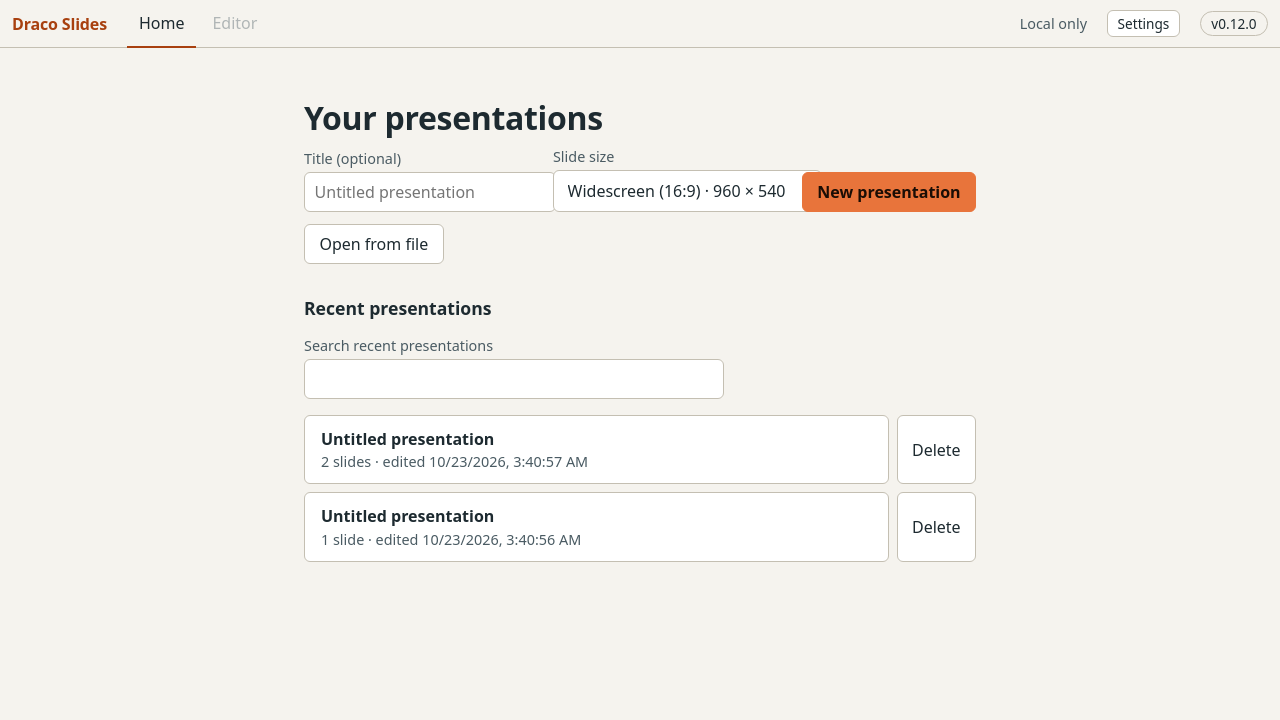
Scenario: editing text in place › clicking empty canvas finishes editing and keeps the typed text, even without an input event
Click the button "New presentation": coordinates (889, 192) [802,172,976,212]
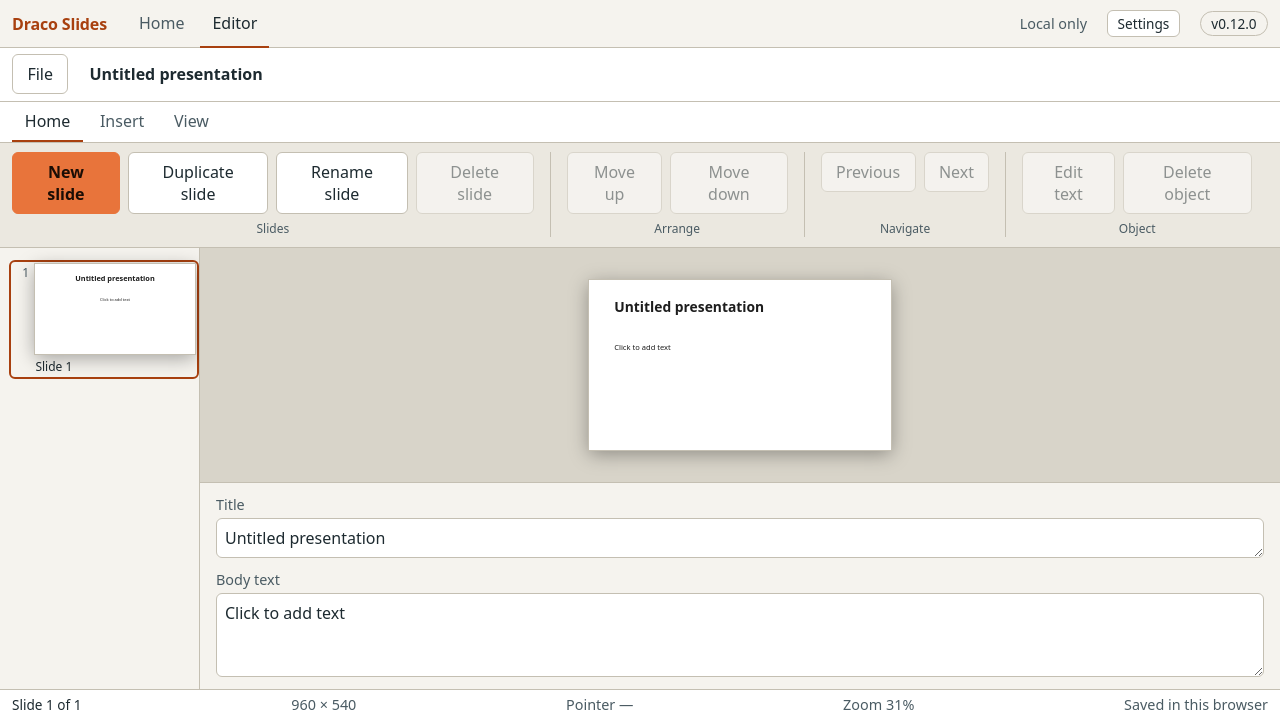
Click the tab "Insert": coordinates (122, 122) [87,102,157,142]
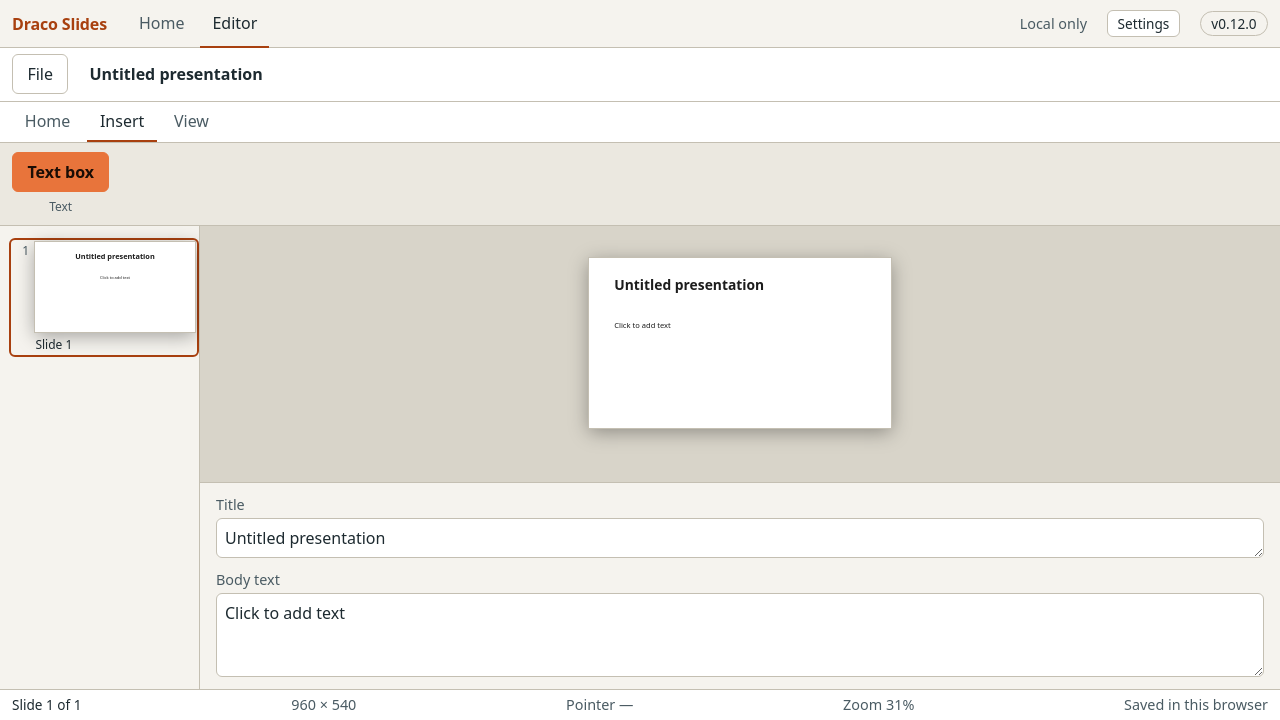
Click the button "Text box": coordinates (61, 172) [12,152,109,192]
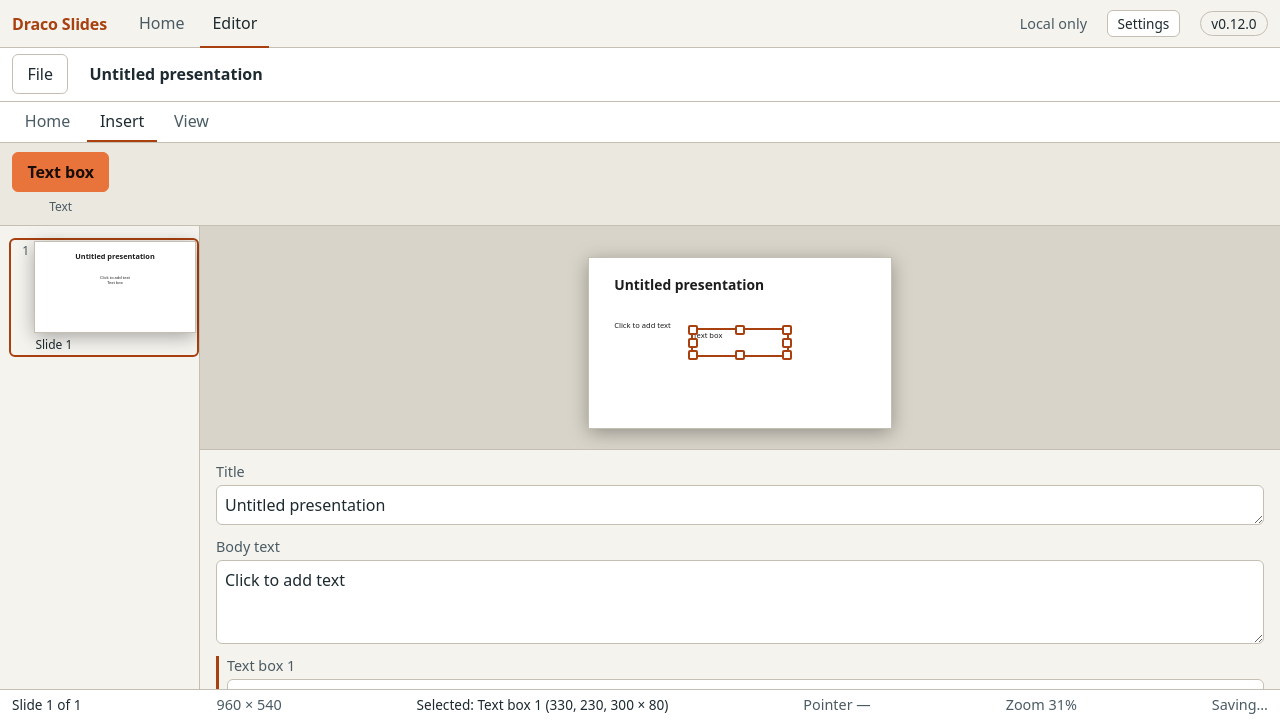
Double-click the button named "Text box 1": coordinates (740, 343) [693,330,787,355]
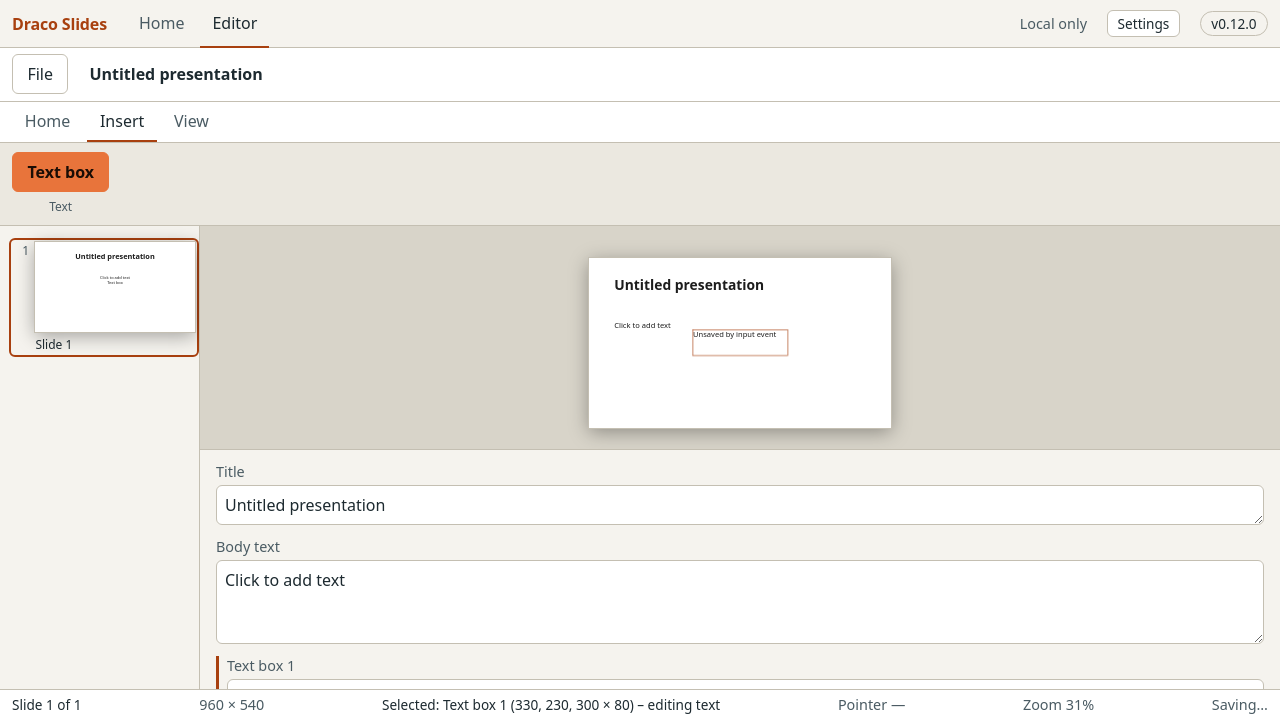
Press the mouse on the element named "Slide canvas": coordinates (740, 337) [200,226,1279,449]
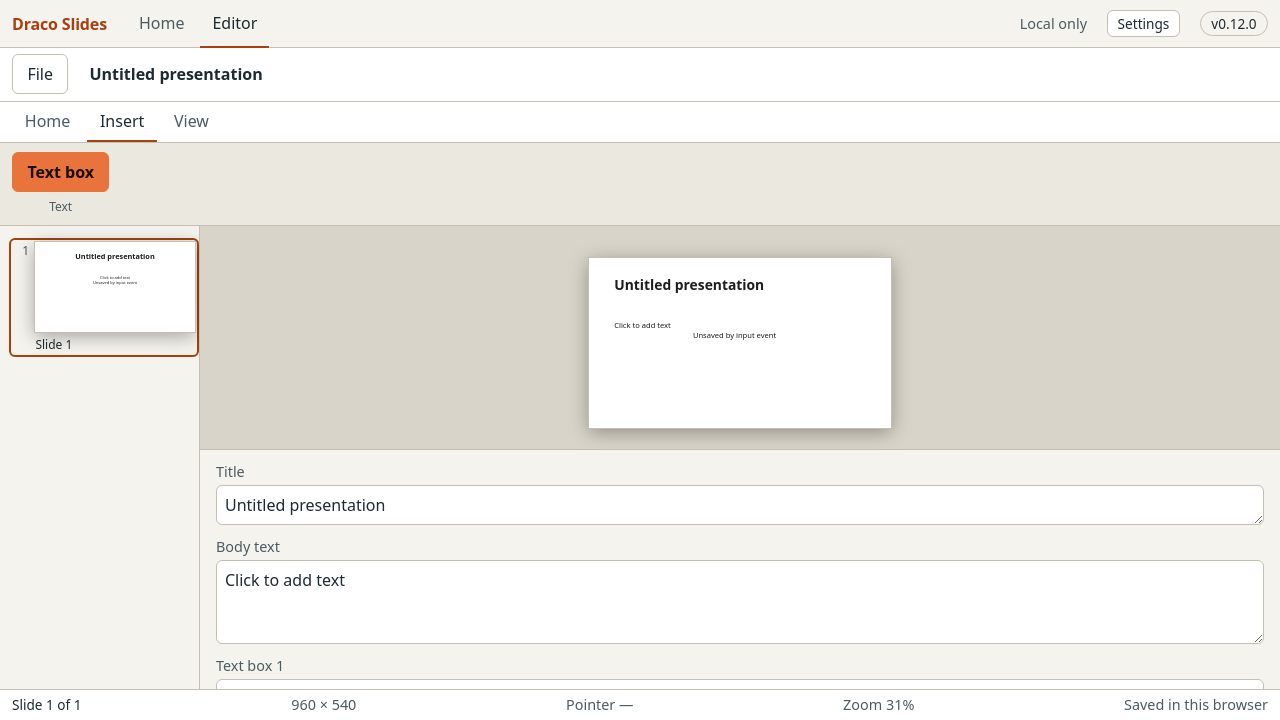
Result: the text "Selected: " is gone
